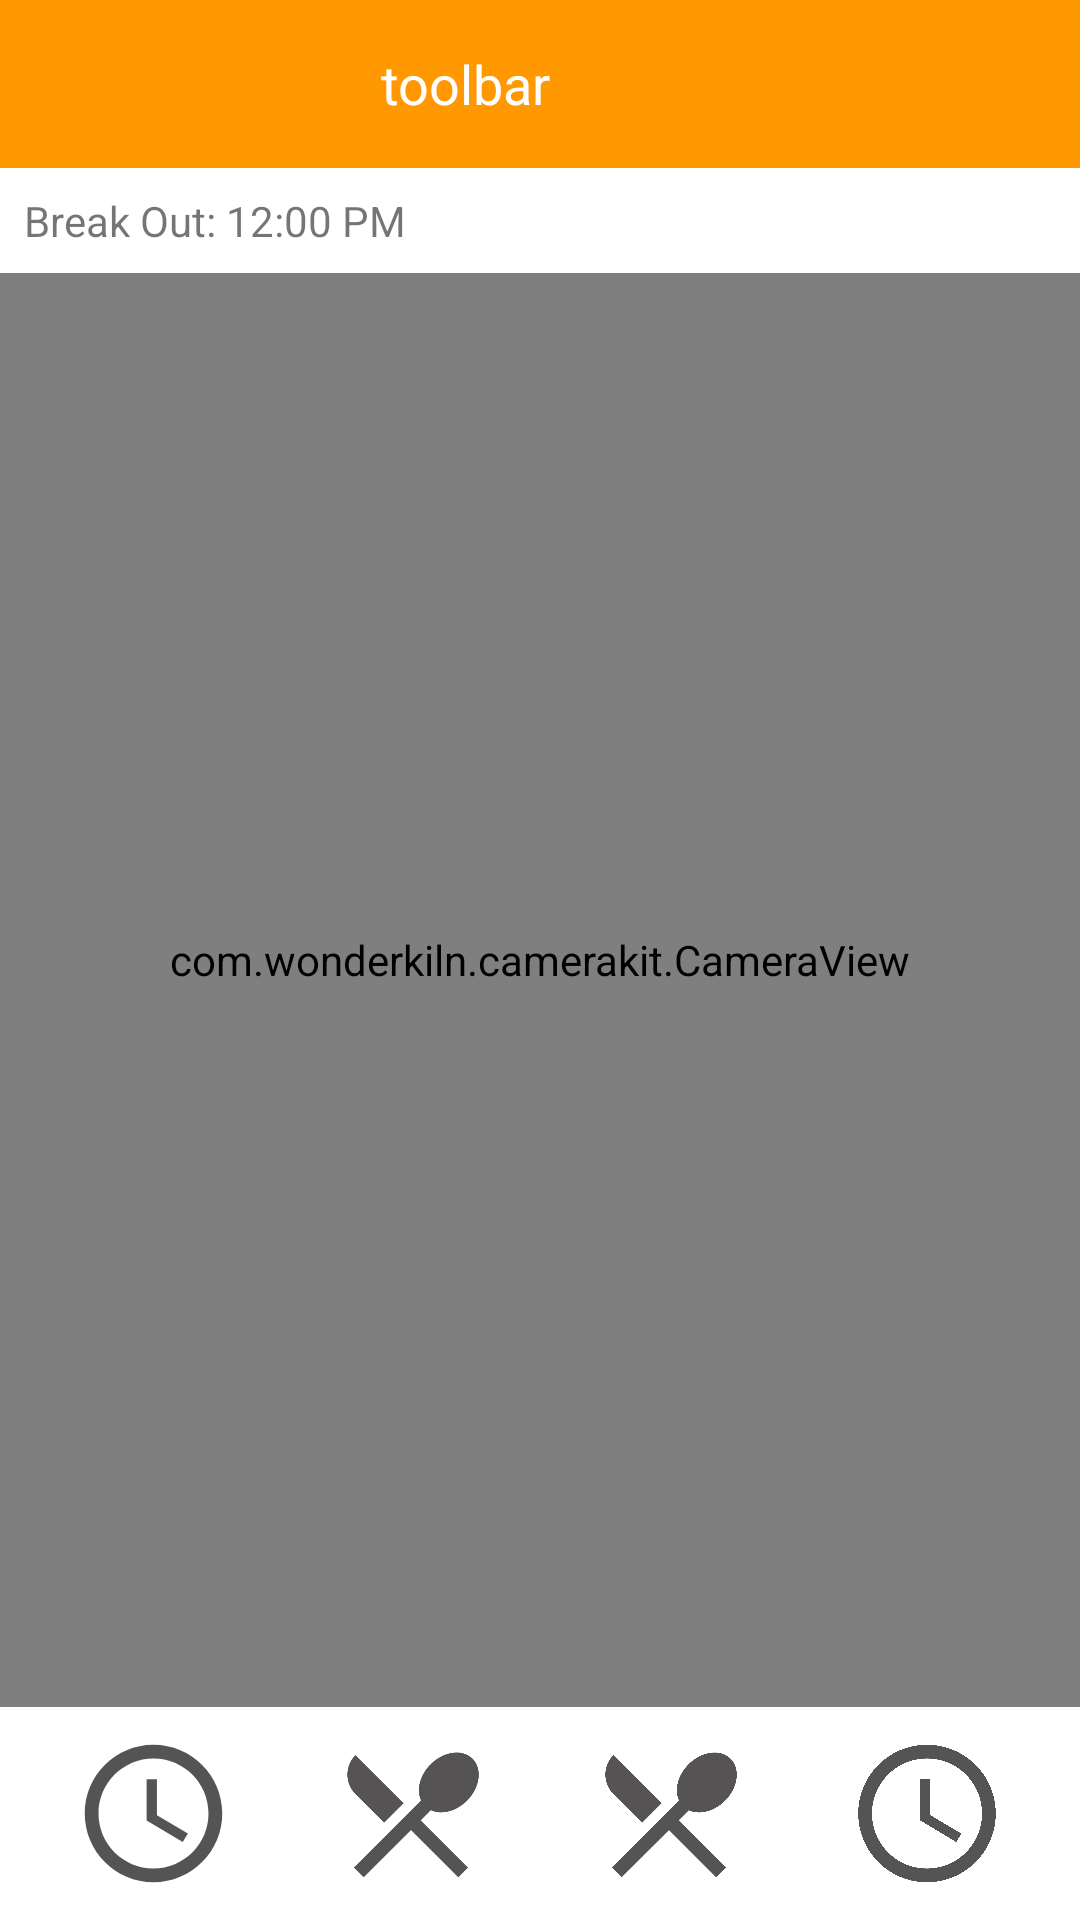

Screen size 1080px x 1920px. Icon name, then its center in pixels as (x,y):
access time: (153,1813), (927,1813)
local dining: (413,1814), (671,1814)
